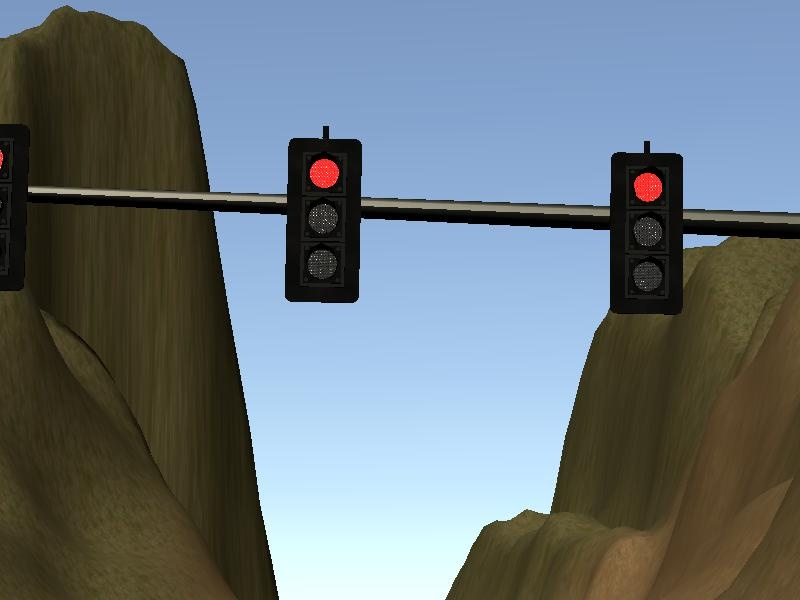red: (283, 137, 360, 302), (609, 153, 686, 318)
